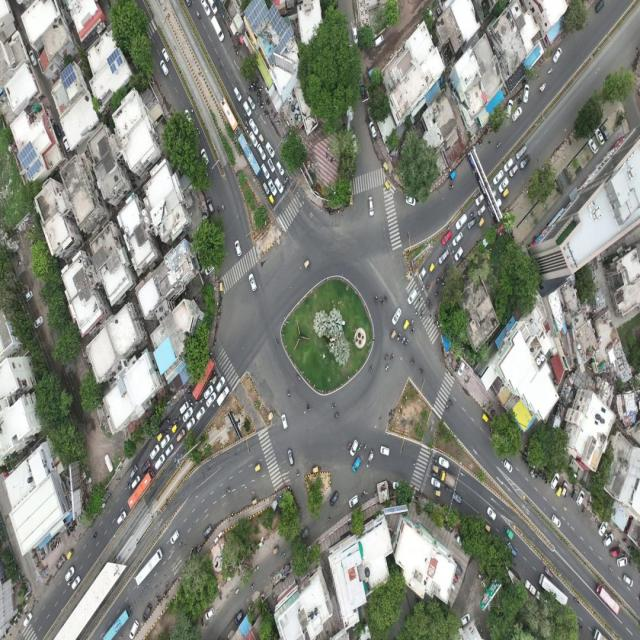3W: (266, 190, 276, 208), (426, 262, 436, 276), (480, 411, 490, 424), (382, 158, 390, 174), (570, 486, 578, 502), (389, 328, 397, 343), (157, 429, 165, 444), (430, 462, 440, 474), (257, 132, 266, 145), (66, 547, 74, 561), (254, 460, 262, 474), (171, 422, 180, 434), (449, 170, 458, 182), (483, 522, 492, 534), (402, 318, 410, 331), (555, 486, 563, 499), (500, 190, 510, 200), (476, 218, 485, 229), (433, 487, 442, 498), (210, 373, 218, 385), (272, 544, 280, 556), (384, 180, 391, 193), (311, 464, 320, 474), (302, 259, 312, 268), (252, 496, 259, 508), (218, 281, 224, 293)
Bus: (134, 545, 165, 588), (127, 468, 157, 509), (192, 356, 218, 402), (537, 572, 569, 608), (238, 130, 262, 178), (102, 605, 133, 640), (220, 97, 240, 133)
Cars: (142, 601, 154, 624), (215, 374, 227, 397), (593, 126, 605, 148), (279, 409, 290, 432), (22, 610, 35, 629), (498, 175, 511, 194), (169, 527, 181, 547), (285, 444, 295, 468), (350, 456, 362, 476), (350, 131, 360, 155), (441, 228, 453, 248), (602, 532, 616, 549), (621, 573, 635, 590), (115, 508, 128, 526), (148, 442, 161, 460), (205, 391, 218, 409), (492, 168, 505, 186), (455, 211, 468, 229), (506, 541, 519, 559), (407, 285, 418, 306), (391, 306, 402, 327), (129, 617, 139, 640), (55, 553, 67, 572), (64, 564, 76, 583), (587, 137, 599, 156), (201, 523, 214, 540), (163, 442, 176, 459), (159, 432, 172, 449), (609, 543, 622, 560), (552, 45, 563, 65), (597, 518, 608, 538), (130, 473, 142, 491), (154, 454, 166, 472), (182, 406, 194, 424), (264, 140, 276, 158), (454, 244, 466, 262), (438, 248, 450, 266), (183, 416, 197, 431), (200, 146, 210, 167), (512, 105, 523, 124), (348, 493, 361, 509), (485, 506, 498, 522), (438, 454, 451, 470), (516, 144, 528, 161), (350, 438, 360, 458), (233, 83, 243, 103), (242, 98, 252, 118), (249, 117, 259, 137), (196, 404, 207, 422), (203, 383, 214, 401), (205, 604, 216, 622), (248, 272, 257, 294), (206, 193, 215, 215), (505, 98, 514, 120), (599, 123, 610, 141), (451, 491, 464, 506), (70, 574, 82, 590), (207, 0, 219, 16), (367, 194, 375, 218), (374, 33, 386, 49), (330, 488, 340, 507), (234, 608, 244, 627), (162, 46, 172, 65), (256, 142, 266, 161), (276, 159, 286, 178), (261, 161, 271, 180), (268, 178, 278, 197), (550, 472, 560, 491), (129, 462, 140, 479), (551, 512, 562, 529), (522, 81, 530, 104), (593, 0, 606, 14), (201, 0, 211, 18), (274, 177, 284, 195), (358, 80, 367, 100), (452, 231, 464, 246), (456, 360, 466, 378), (351, 24, 359, 46), (544, 564, 555, 580), (405, 194, 417, 208), (176, 428, 187, 443), (519, 155, 530, 170), (160, 59, 169, 77), (249, 130, 258, 148), (234, 238, 242, 258), (184, 106, 192, 126), (247, 95, 257, 111), (369, 119, 377, 139), (503, 458, 513, 474), (466, 217, 478, 230), (430, 477, 442, 490), (474, 193, 485, 207), (267, 156, 276, 173), (576, 488, 584, 507), (504, 158, 514, 173), (561, 479, 568, 500), (262, 178, 270, 196), (616, 556, 628, 568), (379, 444, 390, 457), (509, 164, 519, 178), (143, 460, 152, 475), (419, 266, 427, 282), (477, 203, 486, 217)
LCV: (210, 13, 226, 45), (216, 384, 230, 407), (524, 575, 537, 597), (502, 521, 514, 543), (179, 398, 190, 416), (301, 527, 311, 540)
M2W: (325, 511, 332, 525), (330, 400, 338, 411), (333, 410, 341, 421), (253, 564, 261, 574), (176, 538, 184, 548), (384, 362, 391, 373), (496, 139, 502, 151), (356, 442, 362, 454), (368, 362, 374, 374), (546, 66, 553, 76), (32, 551, 38, 561), (244, 124, 249, 136), (449, 182, 455, 192), (434, 288, 440, 298), (425, 280, 431, 290), (395, 332, 401, 342), (409, 358, 415, 368), (444, 402, 450, 412), (608, 564, 614, 574), (286, 388, 291, 400), (296, 464, 300, 479), (399, 336, 406, 344), (225, 486, 232, 494), (374, 292, 378, 306), (196, 9, 201, 20), (250, 581, 255, 592), (35, 560, 41, 569), (199, 396, 205, 405), (460, 252, 466, 261), (419, 310, 425, 319), (306, 403, 312, 412), (234, 587, 240, 596), (379, 297, 385, 306), (274, 338, 279, 348), (196, 127, 201, 137), (477, 138, 482, 148), (480, 136, 485, 146), (435, 276, 440, 286), (449, 398, 454, 408), (346, 440, 351, 450), (390, 352, 395, 362), (296, 372, 301, 382), (577, 623, 584, 630), (92, 532, 98, 540), (163, 429, 169, 437), (177, 414, 183, 422), (188, 398, 194, 406), (439, 274, 445, 282), (410, 326, 416, 334), (628, 555, 632, 567), (444, 484, 450, 492), (363, 441, 367, 453), (517, 91, 522, 100), (416, 296, 421, 305), (409, 319, 414, 328), (40, 554, 46, 561), (168, 424, 174, 431), (186, 387, 193, 393), (259, 102, 265, 109), (276, 118, 282, 125), (449, 249, 455, 256), (443, 265, 449, 272), (418, 368, 424, 375), (626, 544, 632, 551), (58, 537, 62, 547), (66, 528, 70, 538), (71, 524, 75, 534), (72, 520, 77, 528), (128, 481, 132, 491), (208, 378, 213, 386), (221, 202, 225, 212), (217, 205, 221, 215), (228, 29, 232, 39), (272, 112, 277, 120), (470, 211, 475, 219), (582, 504, 586, 514), (433, 456, 438, 464), (361, 490, 366, 498), (384, 352, 388, 362), (281, 550, 285, 560), (154, 593, 159, 601), (230, 510, 235, 518), (384, 294, 389, 302), (437, 318, 440, 331), (52, 541, 56, 550), (172, 419, 178, 425), (190, 105, 194, 114), (244, 111, 248, 120), (269, 107, 273, 116), (517, 100, 523, 106), (426, 298, 430, 307), (428, 302, 432, 311), (622, 537, 628, 543), (621, 550, 627, 556), (259, 85, 264, 92), (262, 108, 267, 115), (244, 120, 249, 127), (415, 309, 420, 316), (404, 339, 409, 346), (573, 596, 578, 603), (432, 471, 437, 478), (50, 544, 54, 552), (212, 370, 216, 378), (209, 350, 213, 358), (283, 184, 287, 192), (422, 284, 426, 292), (56, 538, 59, 548), (125, 481, 128, 491), (166, 418, 171, 424), (186, 392, 191, 398), (194, 399, 199, 405), (233, 45, 238, 51), (266, 109, 269, 119), (284, 177, 287, 187), (527, 458, 530, 468), (248, 85, 252, 92), (254, 87, 258, 94), (255, 88, 259, 95), (442, 280, 446, 287), (69, 526, 72, 535), (539, 469, 542, 478), (234, 51, 239, 56), (250, 83, 256, 87), (256, 100, 262, 104), (265, 98, 269, 104), (286, 176, 289, 184), (545, 477, 548, 485), (525, 455, 527, 466), (267, 100, 270, 107), (543, 473, 546, 480), (252, 85, 256, 90), (257, 91, 260, 97), (522, 454, 524, 463)
Truck: (595, 577, 621, 618), (439, 468, 459, 491)
